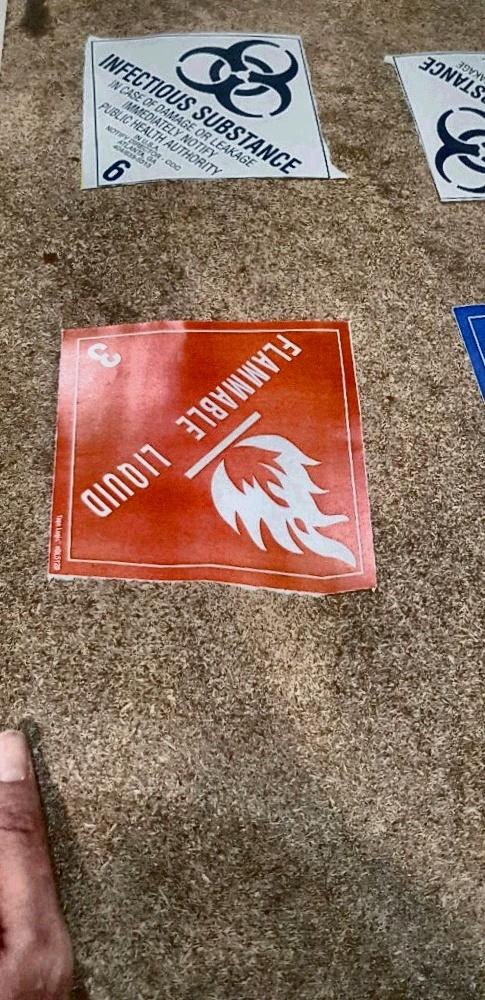flammable: (51, 324, 370, 608)
infectious-substance: (77, 31, 325, 193), (396, 1, 484, 212)
